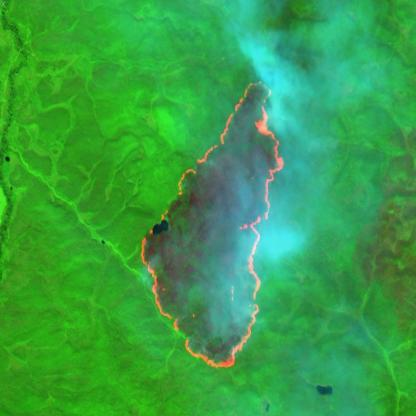fire: (139, 75, 284, 382)
